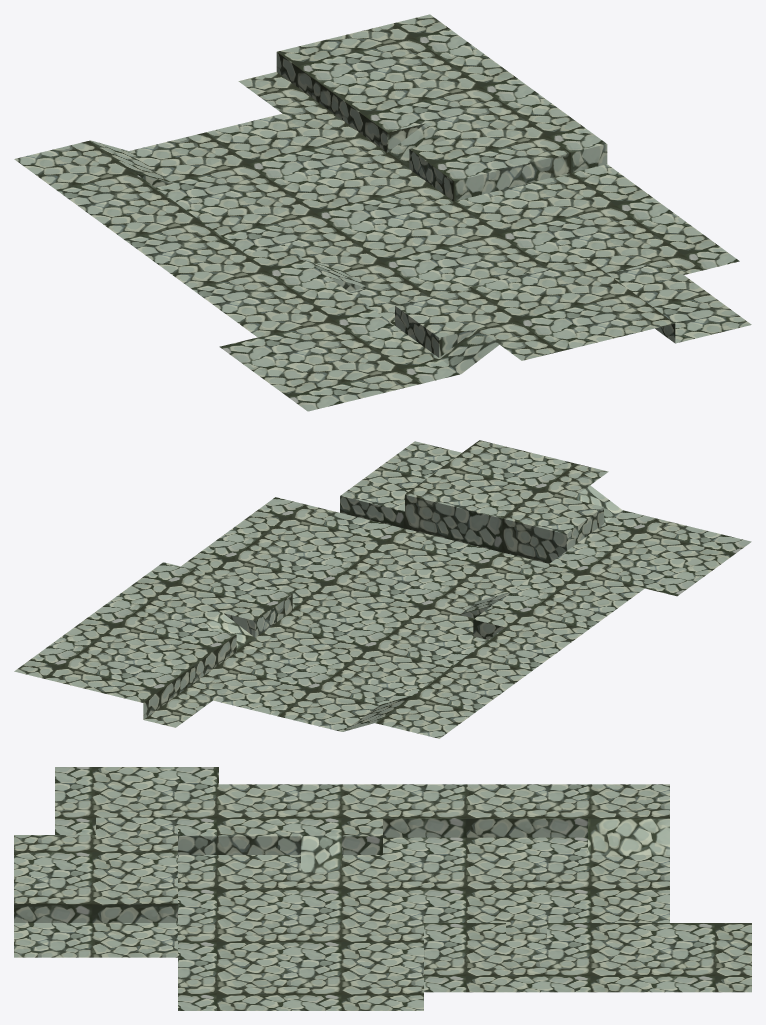
The model's file is yuka.fbx.
The picture shows the model from 3 angles, top to bottom: view 1: azimuth 30°, elevation 25°; view 2: azimuth 150°, elevation 25°; view 3: azimuth 270°, elevation 25°; orthographic projection. The views are drawn at different scales.
Parts seen in each view (by area): view 1: _pCube4; view 2: _pCube4; view 3: _pCube4.
Boxes of the visible parts, left/top/right/bottom form: _pCube4: left=14, top=14, right=751, bottom=411; _pCube4: left=14, top=440, right=751, bottom=738; _pCube4: left=14, top=767, right=751, bottom=1010.
Size of the model in its own units: 13 by 1 by 18.
